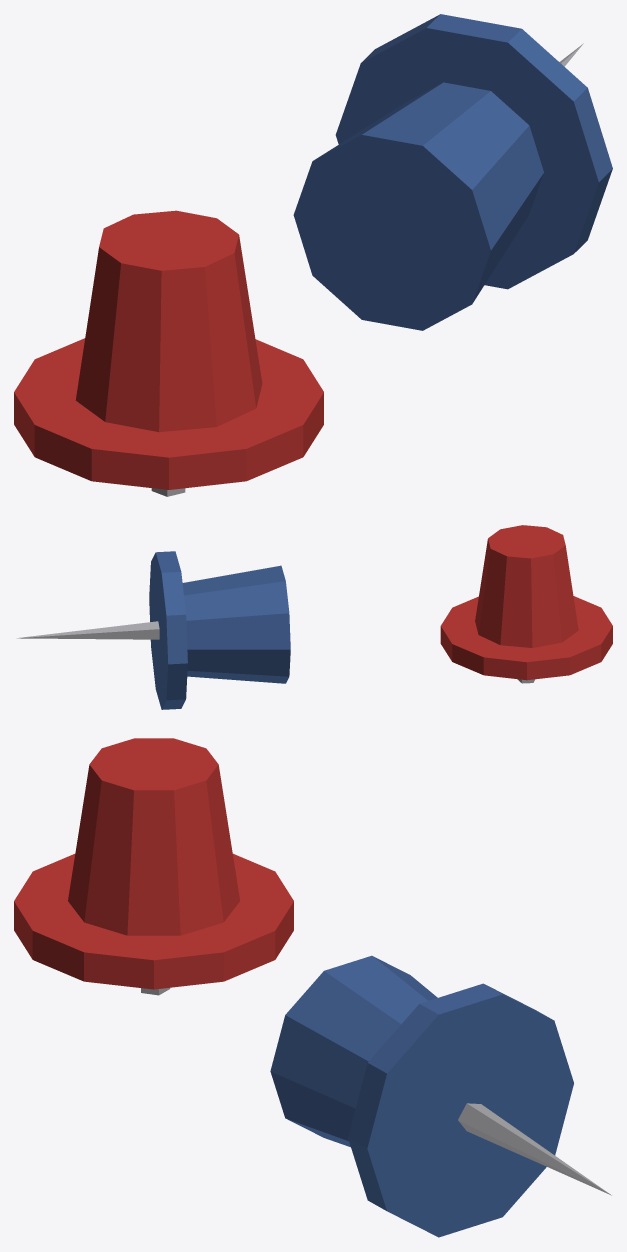
File: decor_pins.glb
3 renders of one model, top to bottom at view 1: azimuth 30°, elevation 25°; view 2: azimuth 150°, elevation 25°; view 3: azimuth 270°, elevation 25°, orthographic. The views are drawn at different scales.
Visible parts, largest first — view 1: decor_pins; view 2: decor_pins; view 3: decor_pins.
Boxes of the visible parts, x1,y1,x2,y2 form: decor_pins: (14,14,612,496); decor_pins: (16,525,612,709); decor_pins: (14,738,611,1237).
Size of the model in its own units: 0.778 by 0.2541 by 0.556.
